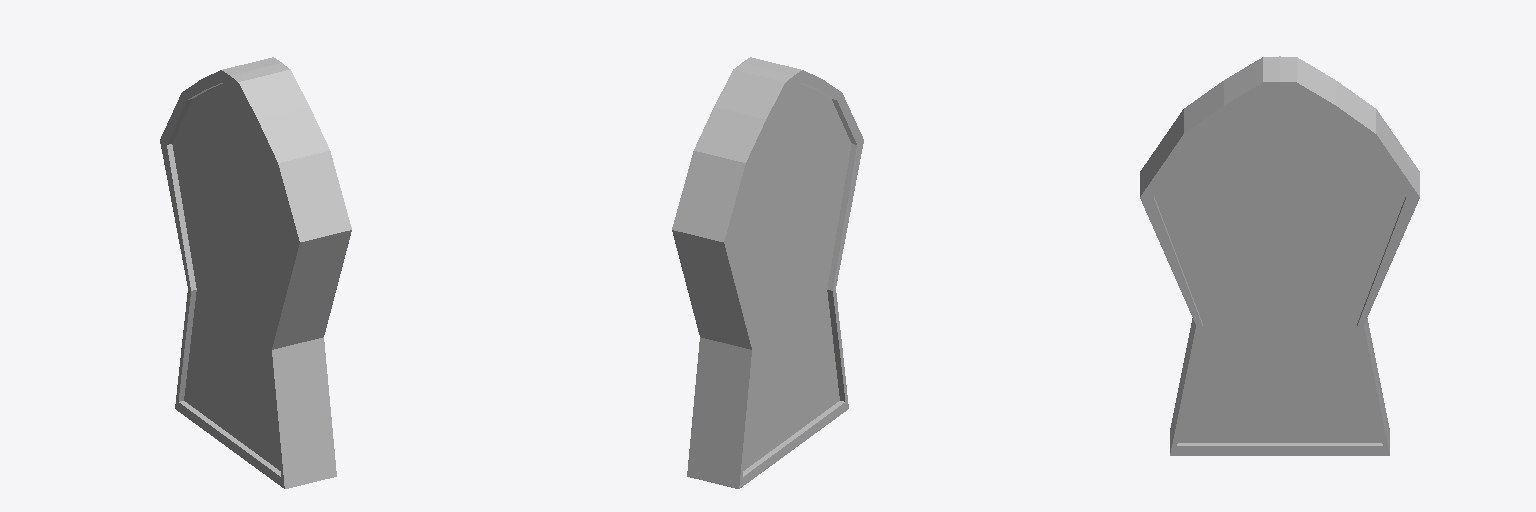
Rendered from grave-4.obj.
The picture shows the model from 3 angles: view 1: azimuth 30°, elevation 25°; view 2: azimuth 150°, elevation 25°; view 3: azimuth 270°, elevation 25°; orthographic projection.
Parts seen in each view (by area): view 1: grave3; view 2: grave3; view 3: grave3.
Boxes of the visible parts, <box> form: grave3: <box>160,57,351,488</box>; grave3: <box>672,57,863,488</box>; grave3: <box>1140,56,1419,455</box>.
Size of the model in its own units: 1.28 by 8.78 by 5.97.